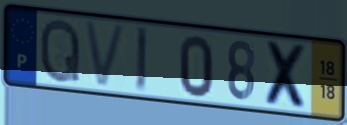0: (177, 31, 216, 100)
8: (226, 38, 257, 103)
I: (134, 24, 150, 96)
Q: (37, 16, 82, 86)
V: (81, 18, 130, 91)
X: (263, 38, 311, 113)
